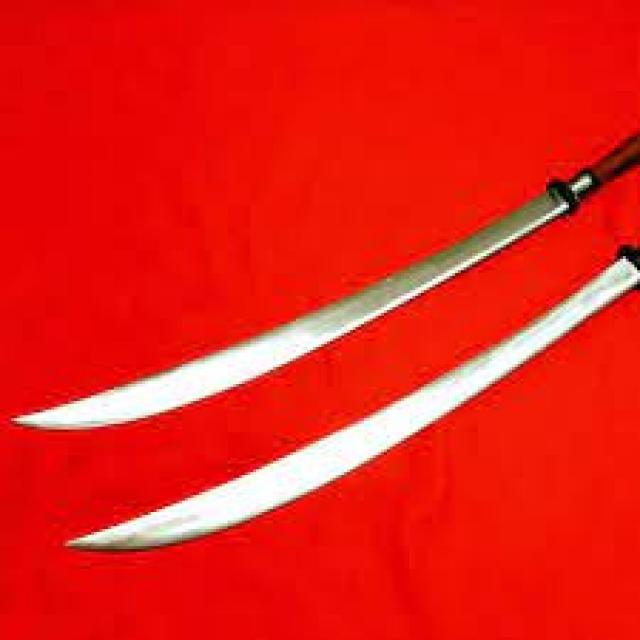long sword: (62, 232, 640, 556), (12, 140, 640, 434)
